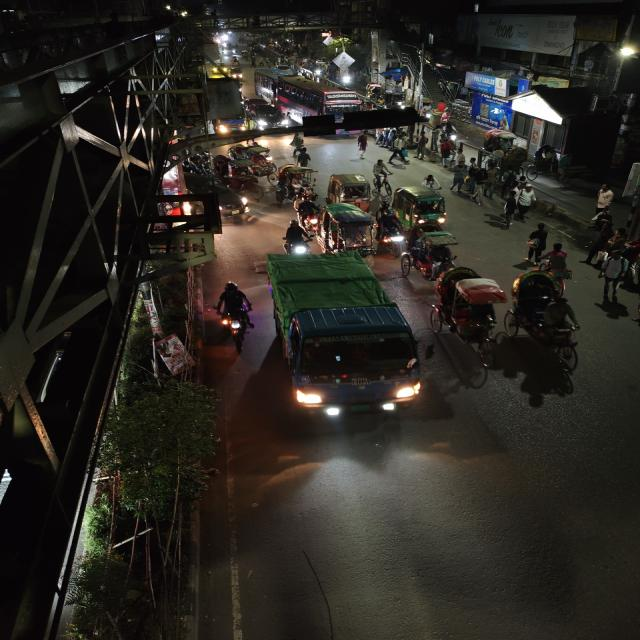bicycle: (542, 242, 576, 299)
bus: (253, 70, 365, 122)
car: (213, 179, 251, 222), (244, 98, 289, 132)
cng: (394, 184, 450, 228), (328, 172, 376, 212)
motorcycle: (213, 278, 256, 350), (376, 206, 406, 254), (280, 220, 314, 258)
pedestrian: (596, 254, 631, 304), (584, 223, 617, 268), (520, 222, 550, 264), (514, 186, 540, 226), (467, 164, 488, 206), (480, 163, 503, 199), (388, 133, 410, 165), (448, 161, 469, 194), (593, 184, 616, 213), (499, 192, 519, 224), (437, 135, 455, 168), (371, 158, 390, 188), (414, 130, 432, 160), (353, 132, 372, 160), (290, 146, 313, 168), (421, 173, 439, 190)
pickup_van: (263, 249, 426, 431), (211, 110, 247, 136)
rickshaw: (510, 265, 591, 369), (430, 265, 511, 359), (318, 201, 380, 260), (401, 237, 458, 282), (210, 153, 263, 195), (228, 141, 278, 179), (276, 166, 318, 202)
